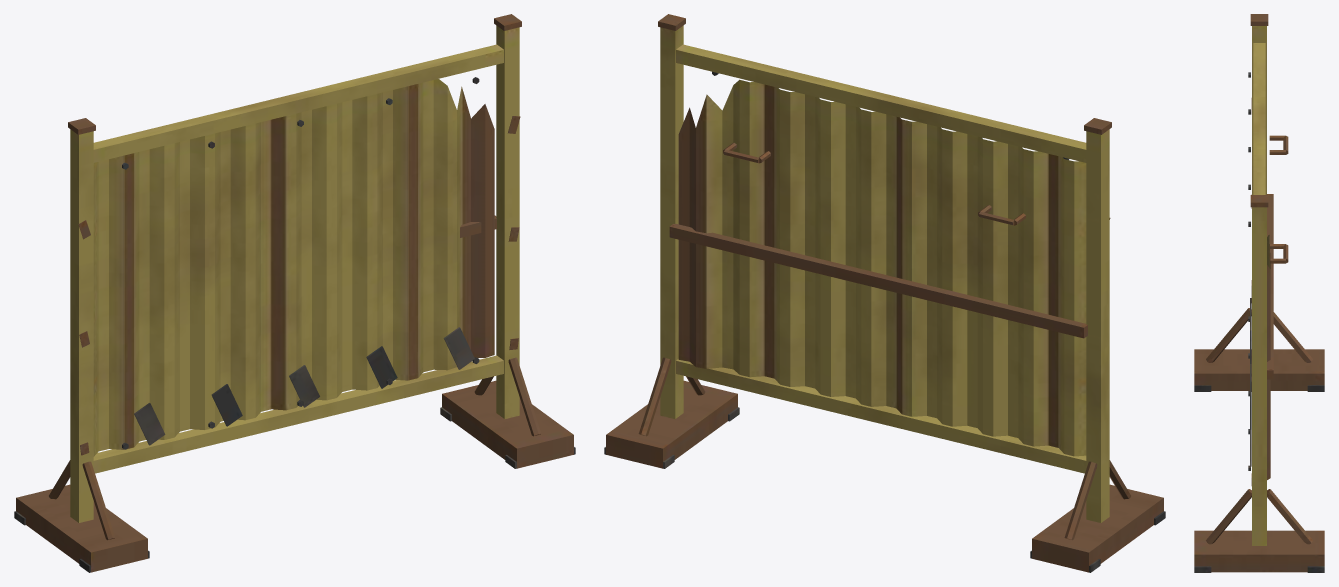
The model's file is CS20_fence_panels_v1.glb.
3 renders of one model, left to right at view 1: azimuth 30°, elevation 25°; view 2: azimuth 150°, elevation 25°; view 3: azimuth 270°, elevation 25°, orthographic. The views are drawn at different scales.
Visible parts, largest first — view 1: Yellow_Corrugated_Site_Fence; view 2: Yellow_Corrugated_Site_Fence; view 3: Yellow_Corrugated_Site_Fence.
Part boxes in pixels (<box>): Yellow_Corrugated_Site_Fence: <box>14,14,575,572</box>; Yellow_Corrugated_Site_Fence: <box>604,14,1165,572</box>; Yellow_Corrugated_Site_Fence: <box>1194,14,1324,572</box>.
Bounding box in the file's own units: 2 × 1.63 × 0.534.
4 materials, 4 textured.
